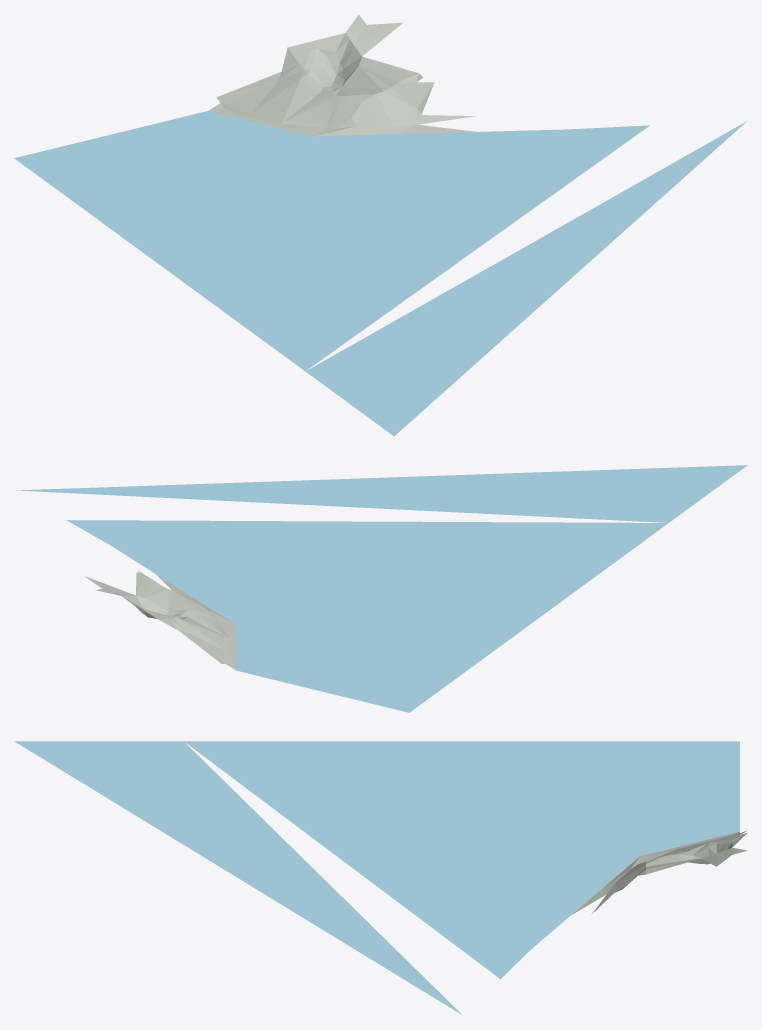
The model's file is terrain-context-C-x-3-z-3.glb.
The picture shows the model from 3 angles, top to bottom: view 1: azimuth 30°, elevation 25°; view 2: azimuth 150°, elevation 25°; view 3: azimuth 270°, elevation 25°; orthographic projection. The views are drawn at different scales.
Parts seen in each view (by area): view 1: C-x-3-z-3; view 2: C-x-3-z-3; view 3: C-x-3-z-3.
Part boxes in pixels (<box>): C-x-3-z-3: <box>14,15,746,436</box>; C-x-3-z-3: <box>15,465,747,712</box>; C-x-3-z-3: <box>14,741,747,1014</box>.
Size of the model in its own units: 41.36 by 3.73 by 46.74.
